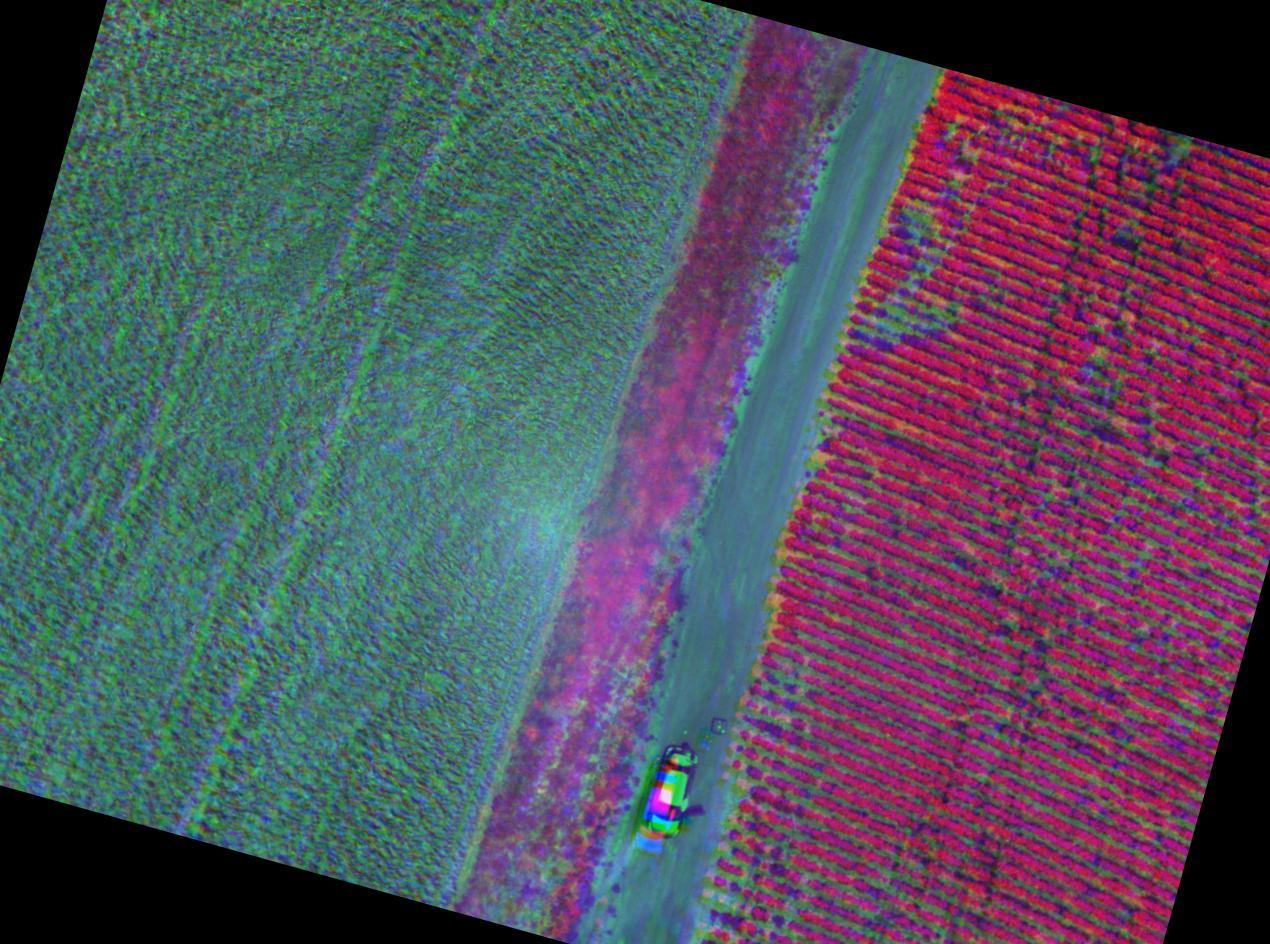dc: (1064, 328, 1164, 436), (723, 767, 778, 880), (902, 203, 973, 279), (1126, 120, 1205, 183), (864, 282, 948, 341), (748, 662, 811, 731)
